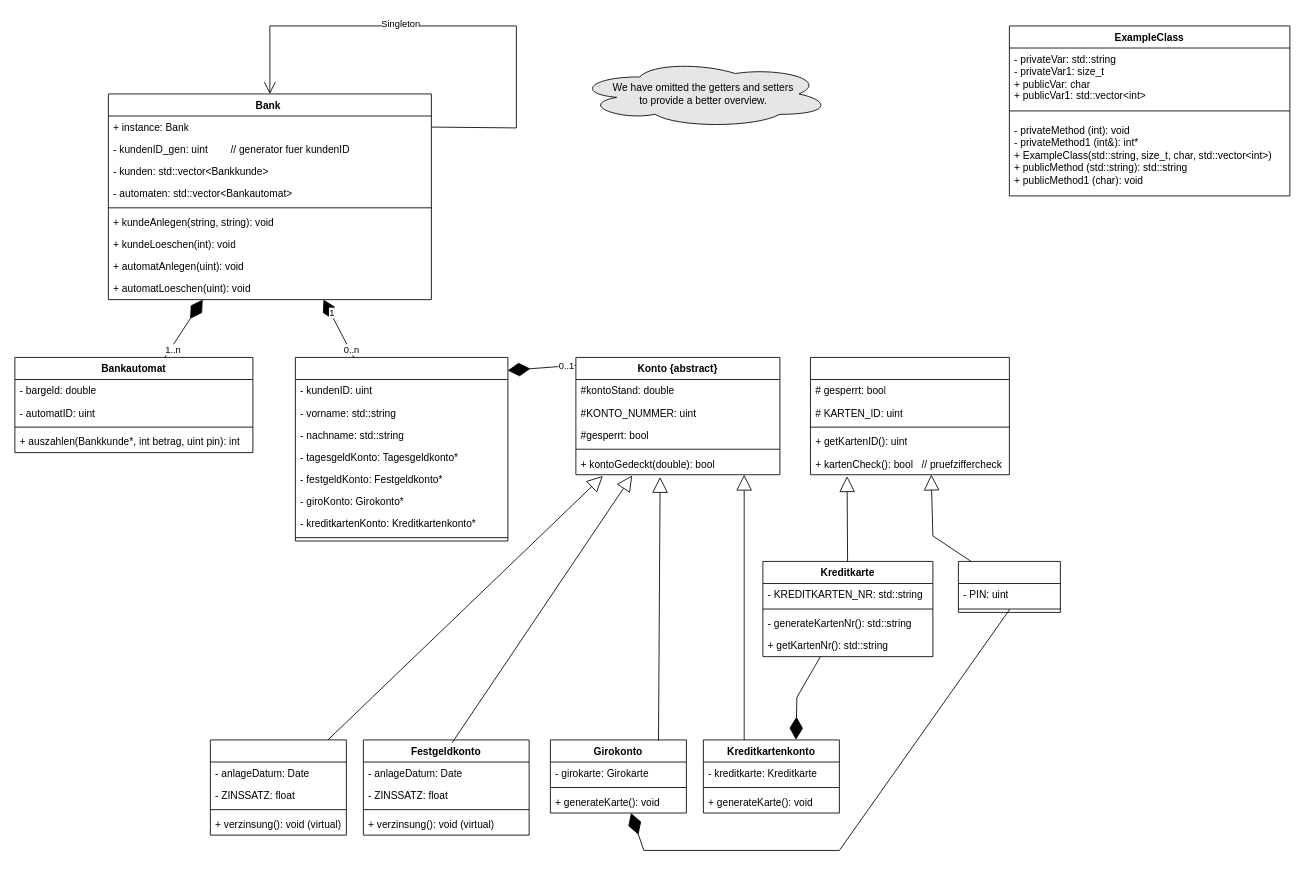
This 1305x887 diagram has some shape labels left out. The box of each missing label's shape, as (x1, y1, x2, y2) in pixels:
Bankkunde: (295, 357, 508, 541)
Girokarte: (958, 561, 1060, 612)
Karte {abstract}: (810, 357, 1009, 475)
Tagesgeldkonto: (210, 739, 346, 835)
